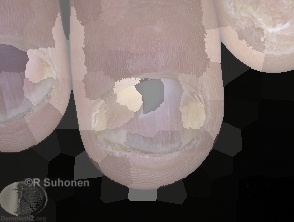Nail_psoriasis: (72, 31, 237, 185), (0, 3, 63, 148), (216, 0, 294, 64)
